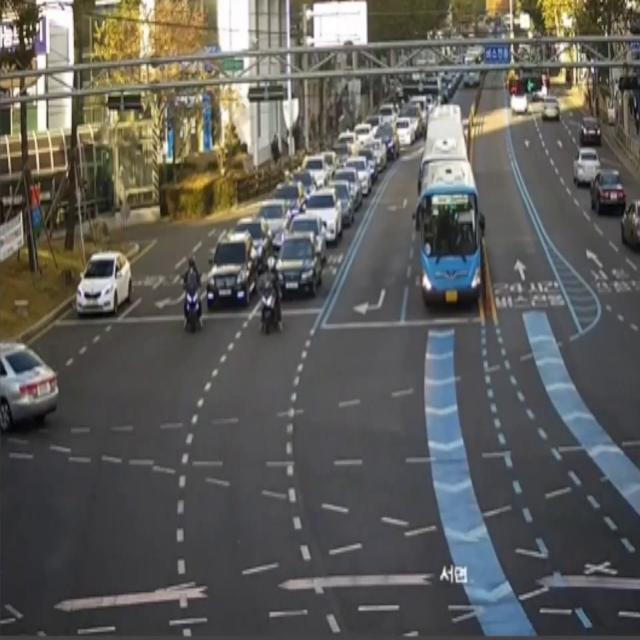motorcycle: (0, 338, 59, 438), (207, 225, 256, 308), (77, 245, 131, 316)
